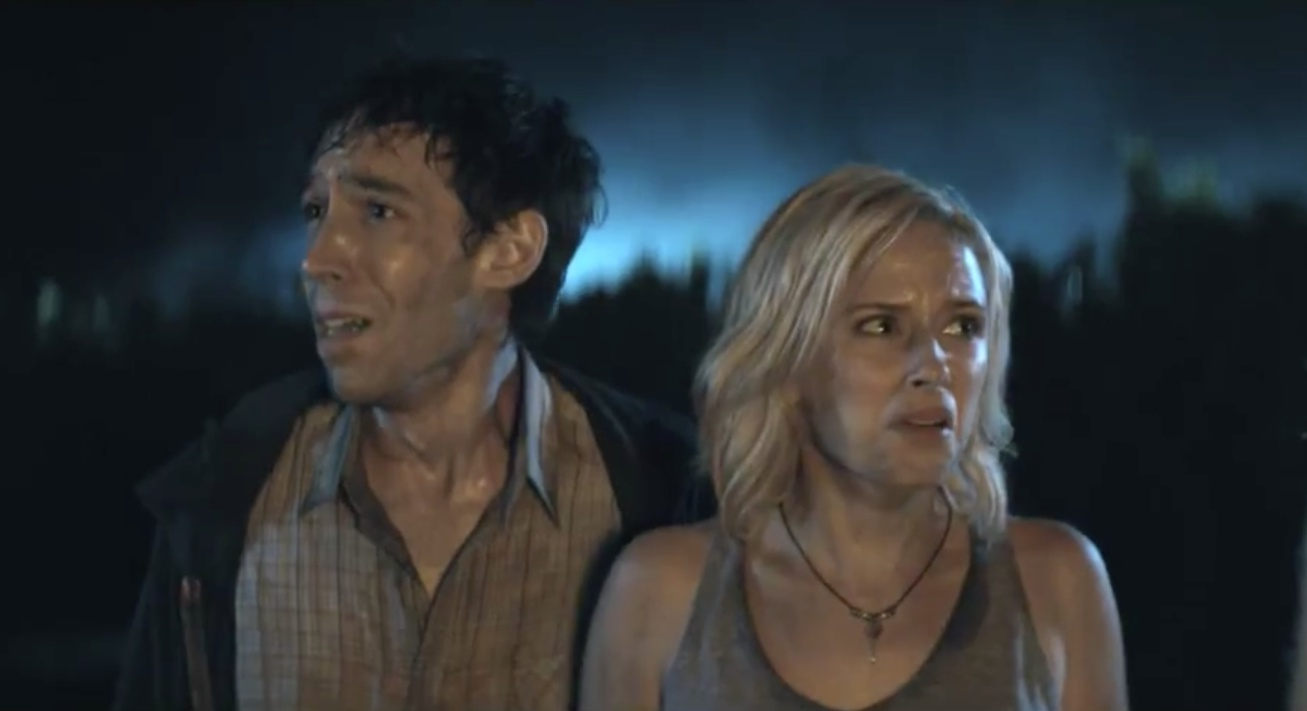bad: (241, 142, 464, 365), (820, 284, 1005, 469)
